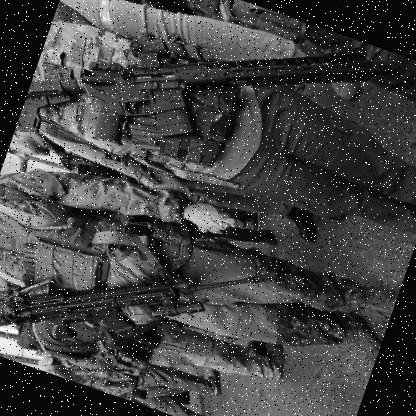rifle: (19, 0, 394, 239), (0, 180, 276, 416)
